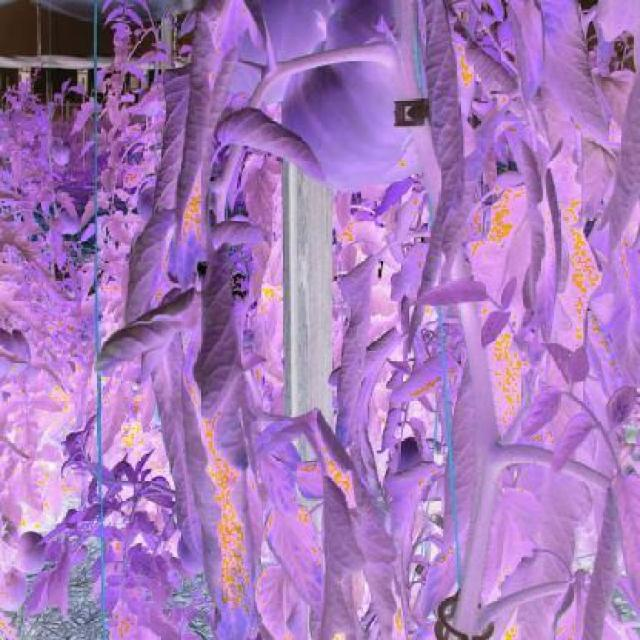Tomato leaf bacterial spot: (187, 241, 261, 479), (330, 246, 384, 458), (215, 98, 332, 193), (152, 53, 196, 229)
